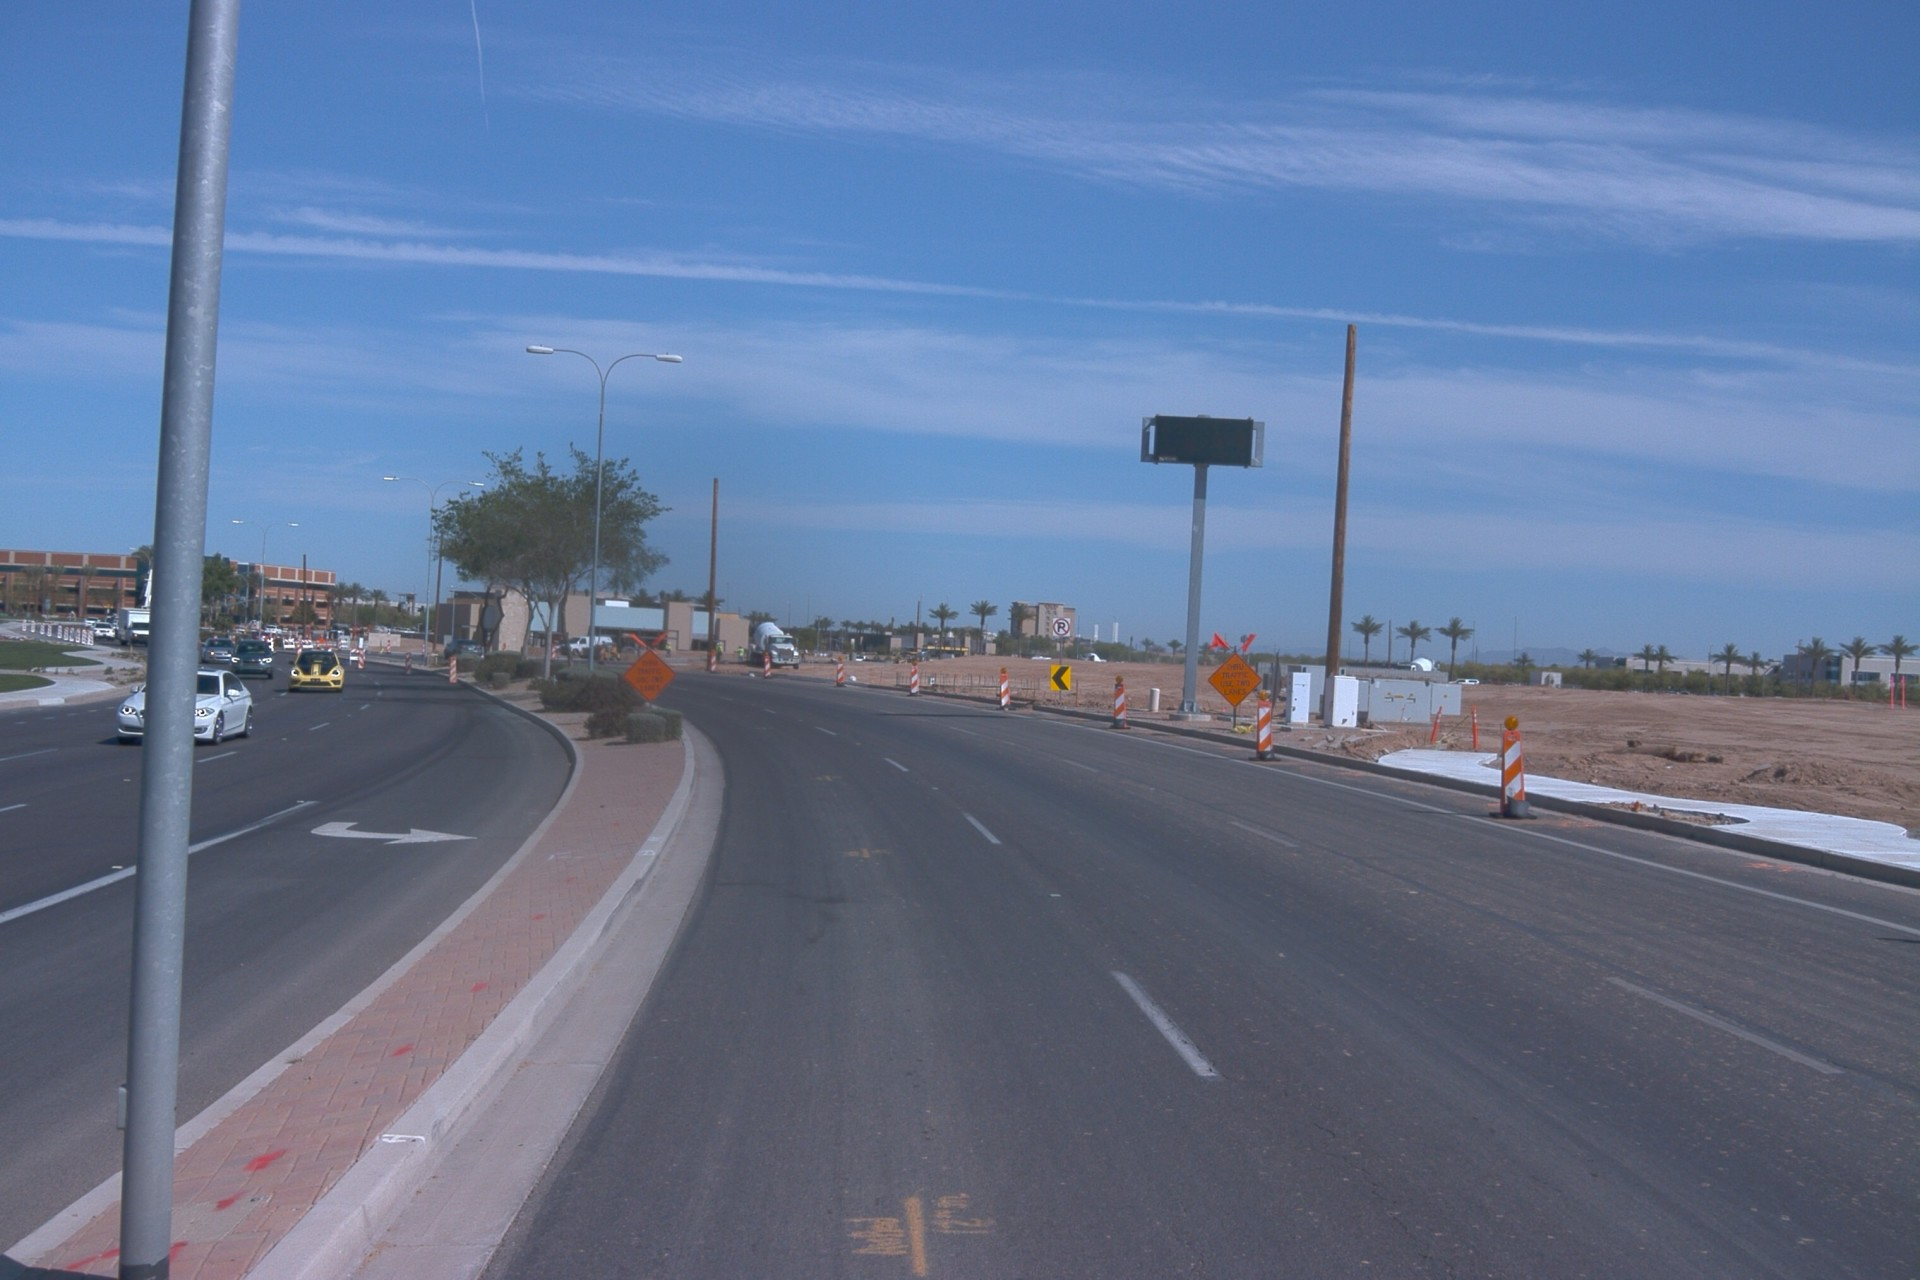TYPE_PEDESTRIAN: (735, 646, 744, 666), (716, 640, 724, 662), (664, 642, 672, 661), (714, 641, 720, 662)
TYPE_VEHICLE: (113, 665, 254, 743), (118, 533, 156, 656), (286, 648, 347, 694), (226, 638, 279, 683), (117, 607, 153, 646), (560, 634, 614, 654), (443, 639, 484, 664), (1392, 651, 1438, 672), (199, 638, 235, 663), (893, 649, 934, 666), (244, 630, 274, 648), (92, 622, 118, 641), (1447, 675, 1481, 683), (1028, 652, 1054, 661), (555, 637, 569, 651), (85, 616, 100, 627), (746, 643, 759, 655), (399, 625, 415, 634), (856, 655, 871, 663)
